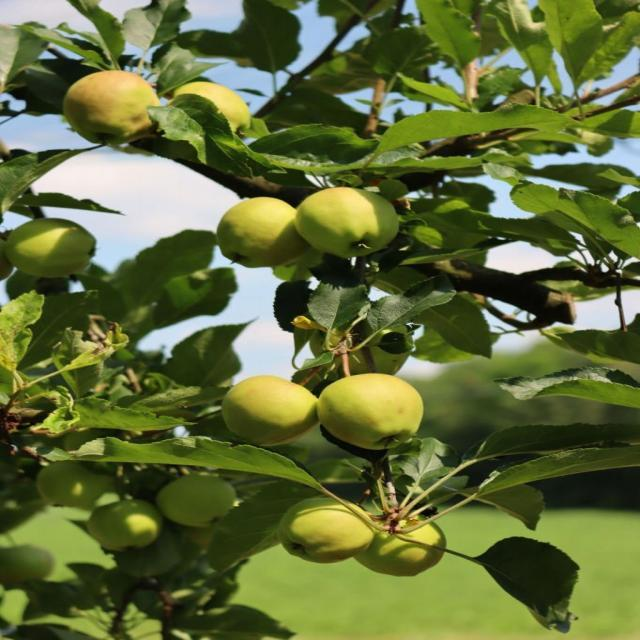Green Apple: (315, 378, 426, 447), (227, 377, 326, 449), (221, 193, 305, 273), (66, 71, 155, 142), (298, 187, 395, 250), (287, 502, 372, 566), (355, 515, 440, 577), (177, 77, 256, 141), (14, 221, 94, 280), (88, 497, 158, 551), (42, 463, 114, 511), (165, 477, 235, 526), (346, 329, 413, 376), (1, 543, 54, 586)
